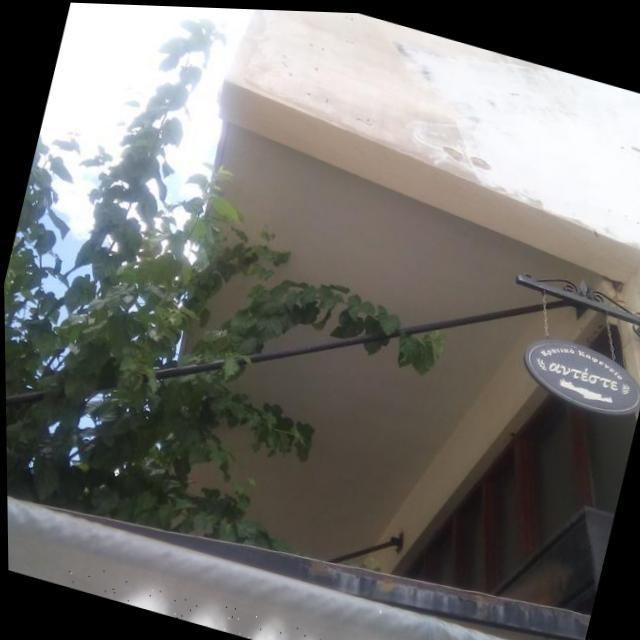-: (58, 559, 530, 640)
